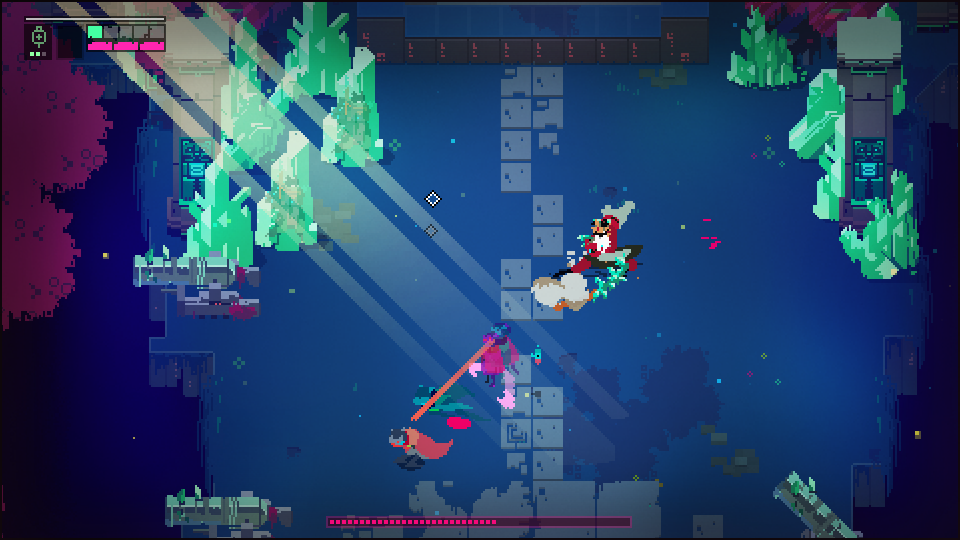hanged_man: (557, 201, 634, 307)
player: (385, 431, 455, 462)
